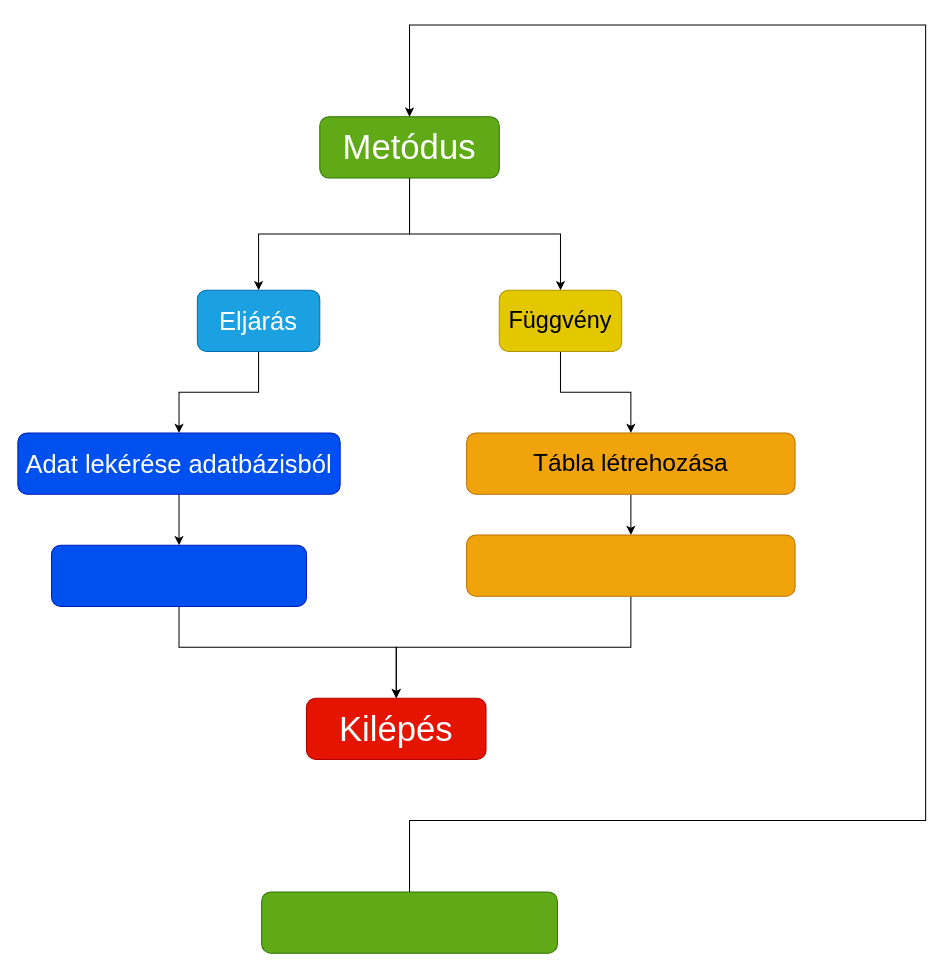
This 952x971 diagram has some shape labels left out. The centre of each missing label's shape, as x and y in pixels:
"Metódus hívás" belongs at pixel 409 922.
"Oszlop létrehozása" belongs at pixel 630 565.
"Visszatér: lekért adat" belongs at pixel 178 575.
